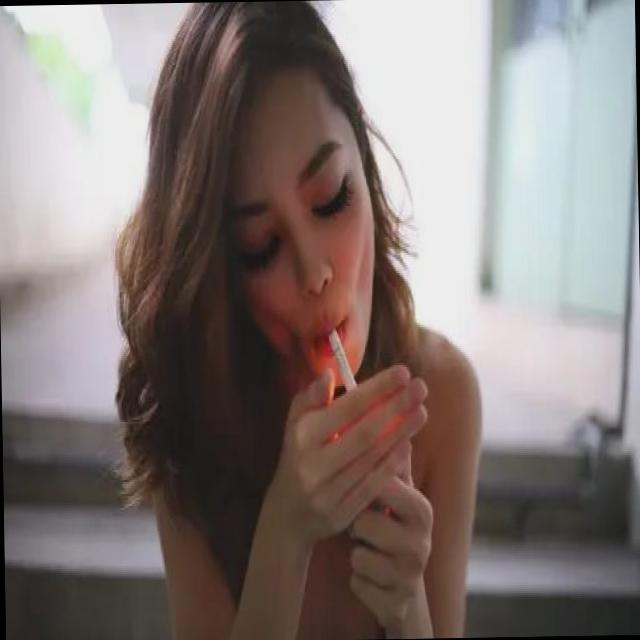cigarette: (322, 323, 362, 400)
